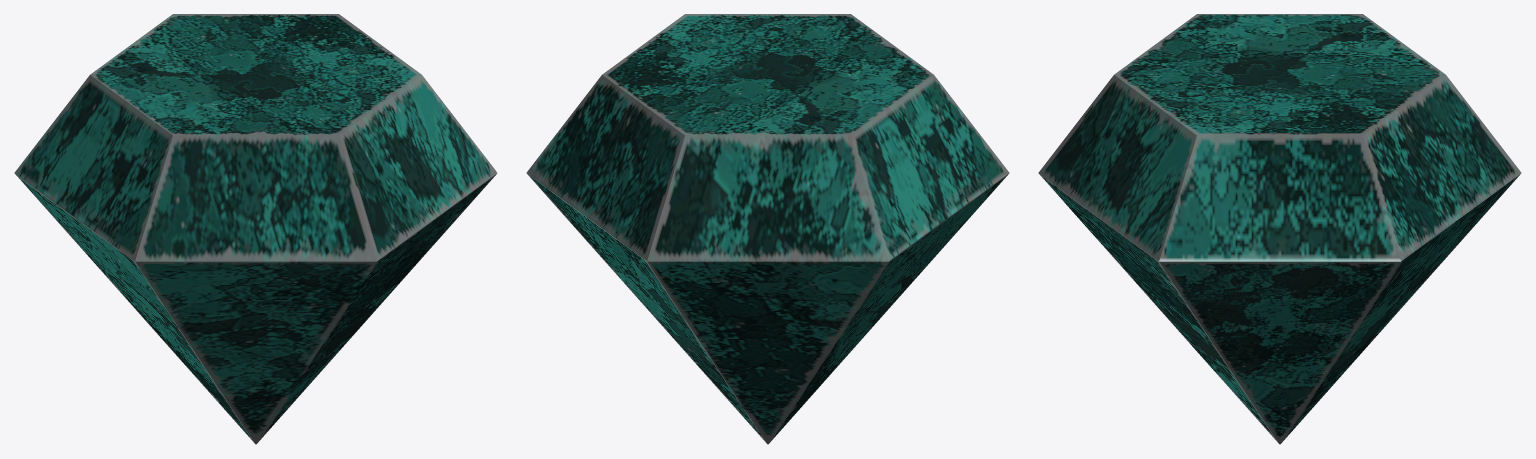
The model's file is Diamond.glb.
The picture shows the model from 3 angles, left to right: view 1: azimuth 30°, elevation 25°; view 2: azimuth 150°, elevation 25°; view 3: azimuth 270°, elevation 25°; orthographic projection.
Parts seen in each view (by area): view 1: Diamond; view 2: Diamond; view 3: Diamond.
Part boxes in pixels (bbox=[...]): Diamond: bbox=[14, 14, 497, 444]; Diamond: bbox=[526, 14, 1009, 444]; Diamond: bbox=[1038, 14, 1521, 444].
Bounding box in the file's own units: 0.1536 × 0.1499 × 0.1774.
Materials: 1 (1 with a texture image).
